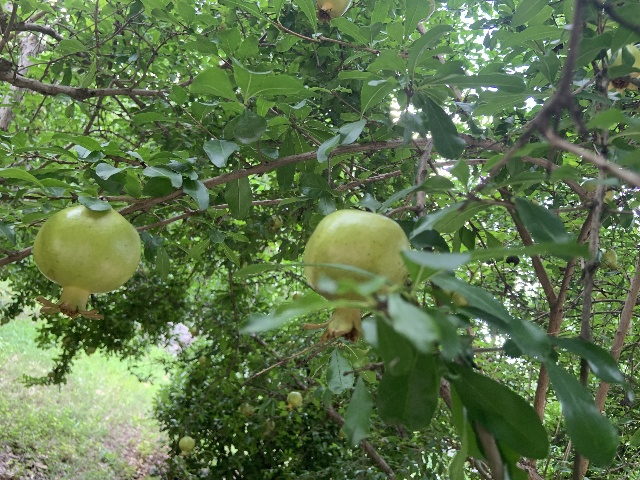mid-growth: (300, 208, 410, 346), (32, 203, 141, 320), (597, 45, 639, 94), (315, 0, 352, 25), (177, 436, 195, 456), (285, 391, 301, 410), (269, 214, 283, 232)
